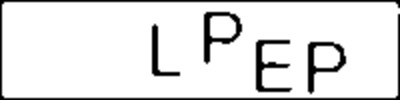E: (250, 36, 299, 99)
L: (143, 21, 188, 80)
P: (196, 8, 245, 66), (304, 37, 349, 98)
